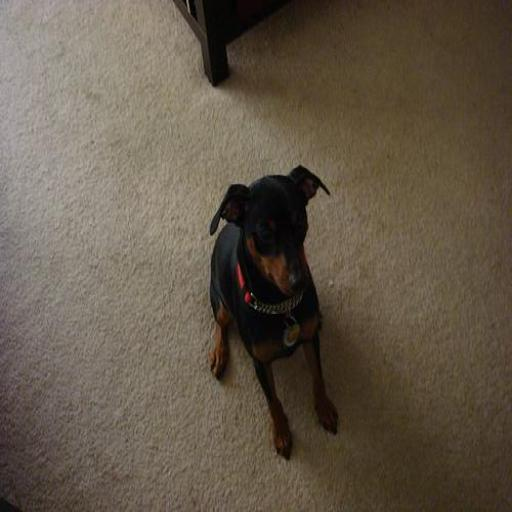dog_face: (208, 156, 332, 302)
